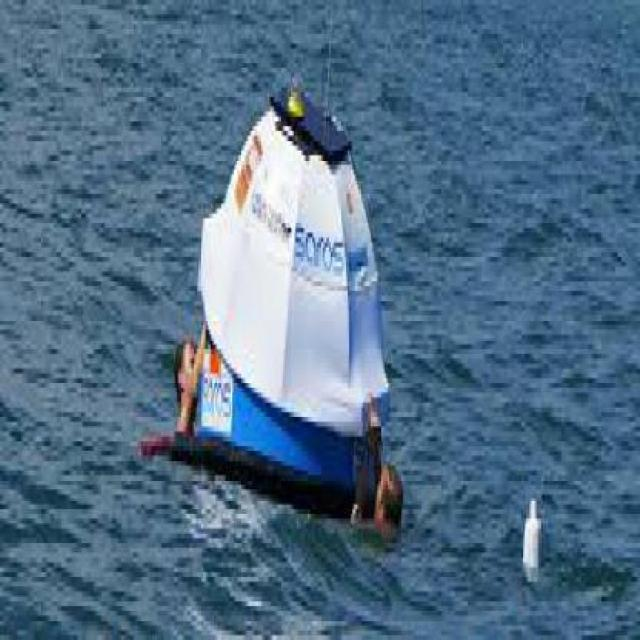buoy: (124, 55, 426, 573)
